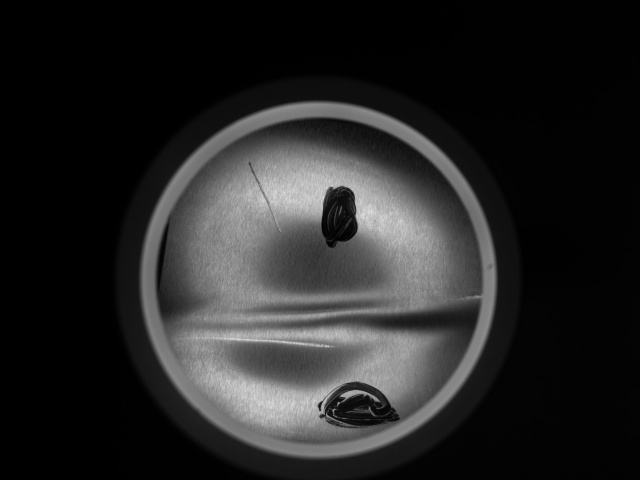ca_shang: (244, 158, 282, 237)
zang_wu: (316, 378, 400, 430), (317, 185, 362, 250)
zhe_zhou: (192, 152, 450, 407)
